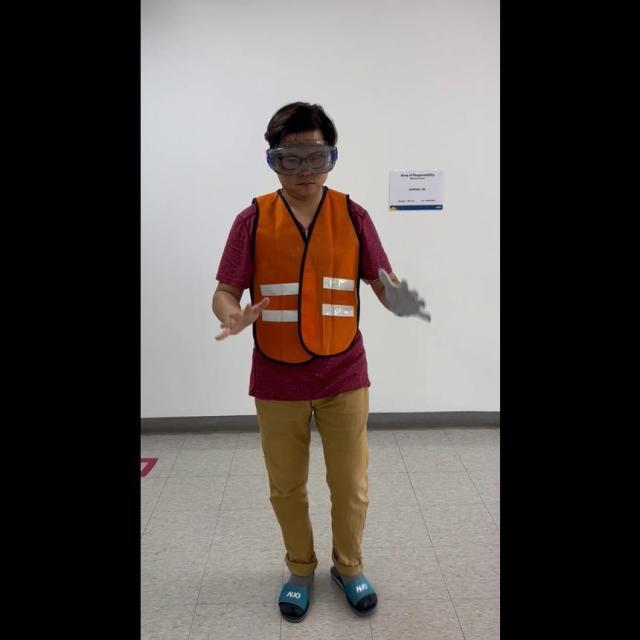bare_hand: (214, 288, 269, 341)
gloved_hand: (373, 263, 430, 325)
